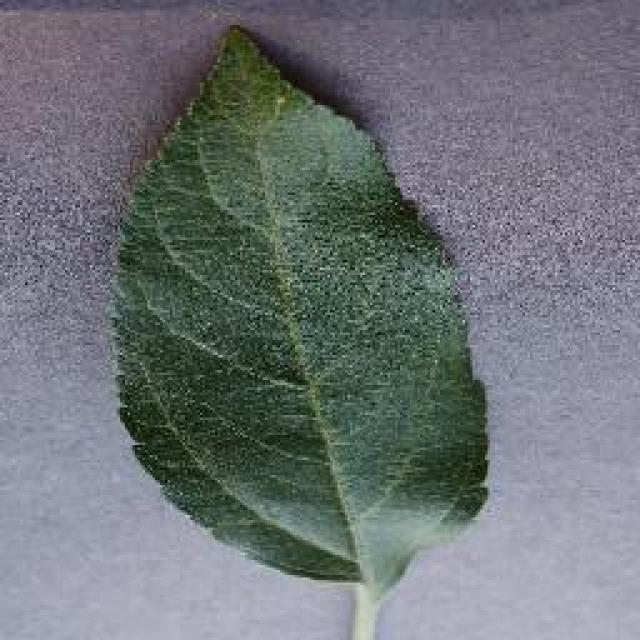apple healthy: (105, 20, 495, 635)
